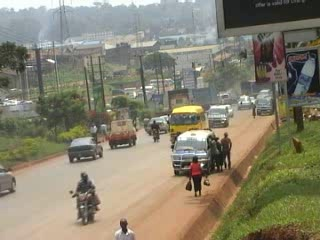Car: (64, 133, 105, 163), (0, 158, 18, 197), (144, 114, 168, 135), (220, 103, 235, 117), (249, 94, 257, 107)
Motorcycle: (68, 174, 102, 228), (148, 120, 160, 144)
